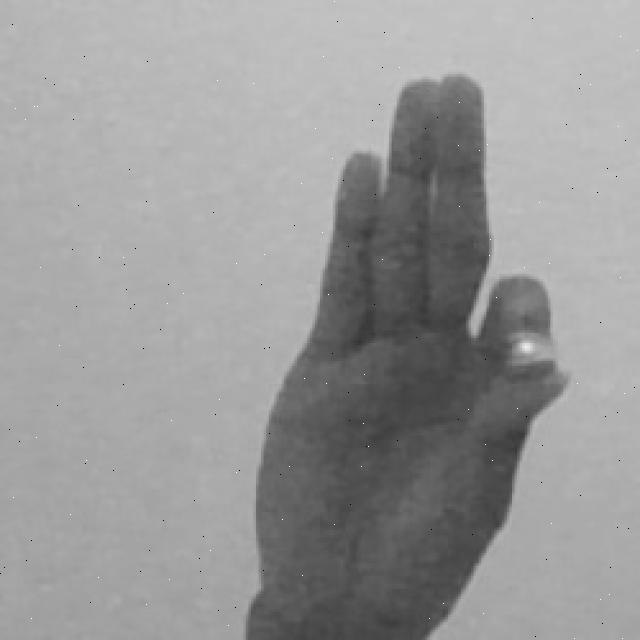F: (245, 71, 570, 640)
